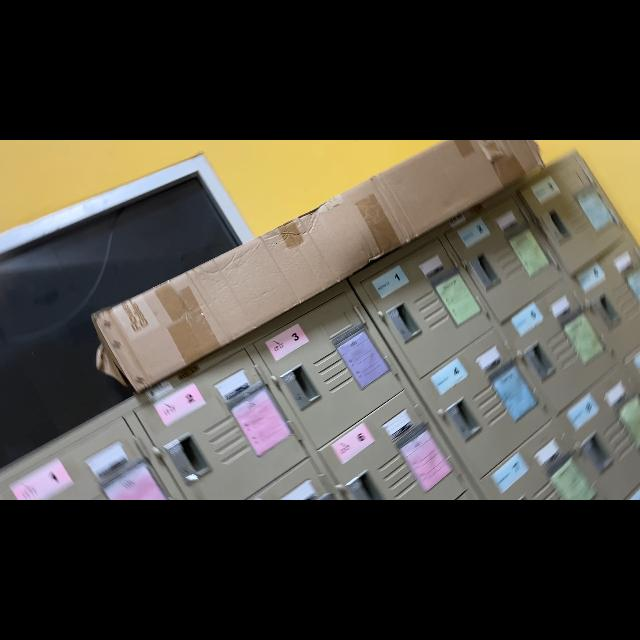cardboard_box: (89, 140, 544, 402)
